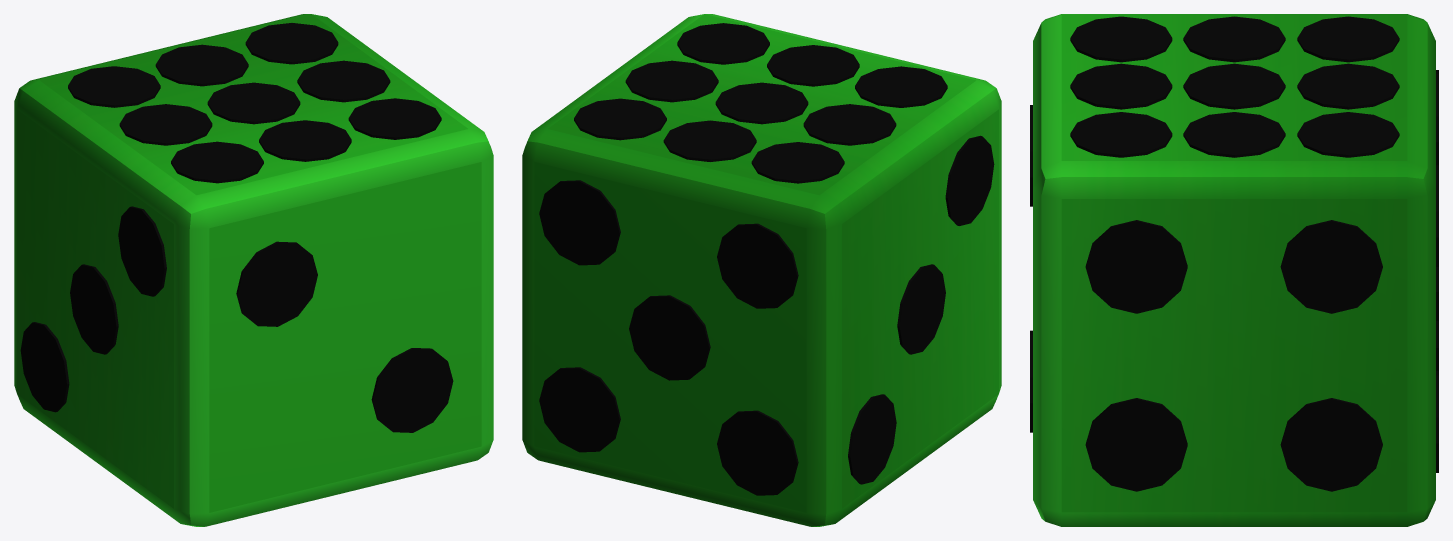
File: Dice_01.fbx
3 renders of one model, left to right at view 1: azimuth 30°, elevation 25°; view 2: azimuth 150°, elevation 25°; view 3: azimuth 270°, elevation 25°, orthographic. The views are drawn at different scales.
Parts seen in each view (by area): view 1: pCube18; view 2: pCube18; view 3: pCube18.
Part boxes in pixels (box(x1,y1,x2,y2)): pCube18: box(14, 14, 493, 526); pCube18: box(522, 14, 1001, 526); pCube18: box(1030, 14, 1438, 526).
Size of the model in its own units: 2.03 by 2.03 by 2.03.
